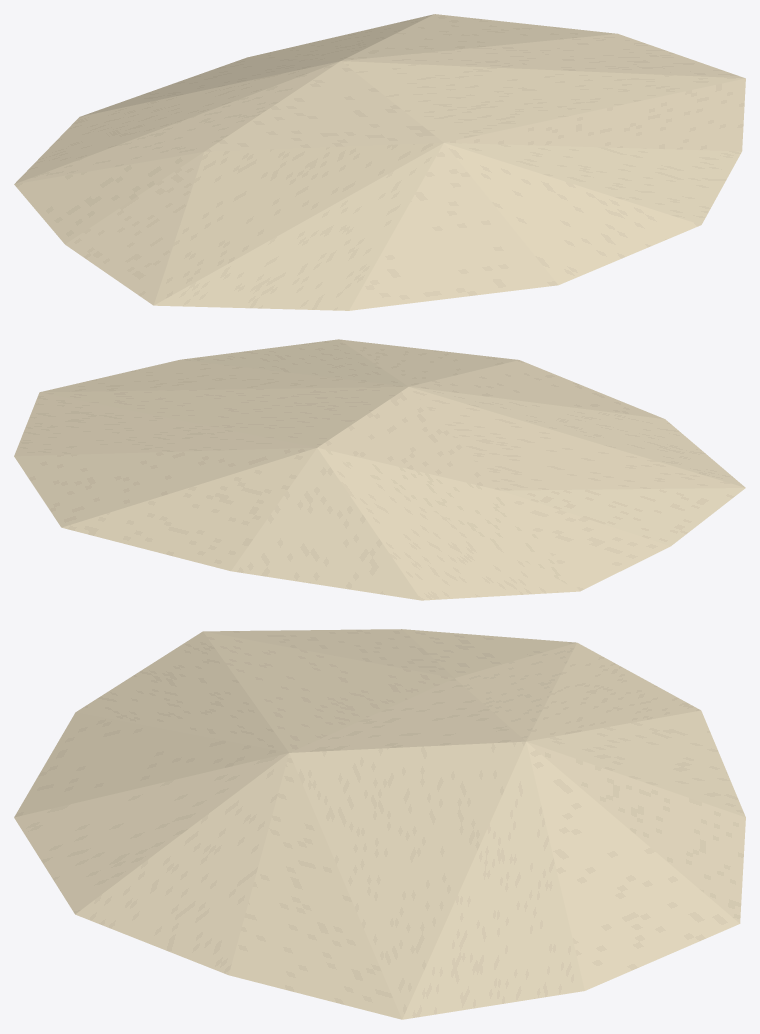
The model's file is wrapper.glb.
3 views of the same model, one above another, from view 1: azimuth 30°, elevation 25°; view 2: azimuth 150°, elevation 25°; view 3: azimuth 270°, elevation 25° (orthographic). The views are drawn at different scales.
Parts seen in each view (by area): view 1: block_paper; view 2: block_paper; view 3: block_paper.
Part boxes in pixels (x1=…): block_paper: x1=14, y1=14, x2=745, y2=310; block_paper: x1=14, y1=339, x2=745, y2=600; block_paper: x1=14, y1=629, x2=745, y2=1019.
Bounding box in the file's own units: 0.1834 × 0.0167 × 0.1452.
1 material, 1 textured.
